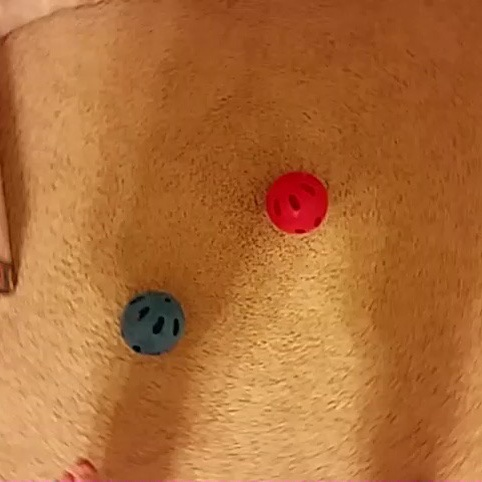blueball: (118, 287, 188, 358)
redball: (266, 169, 332, 235)
